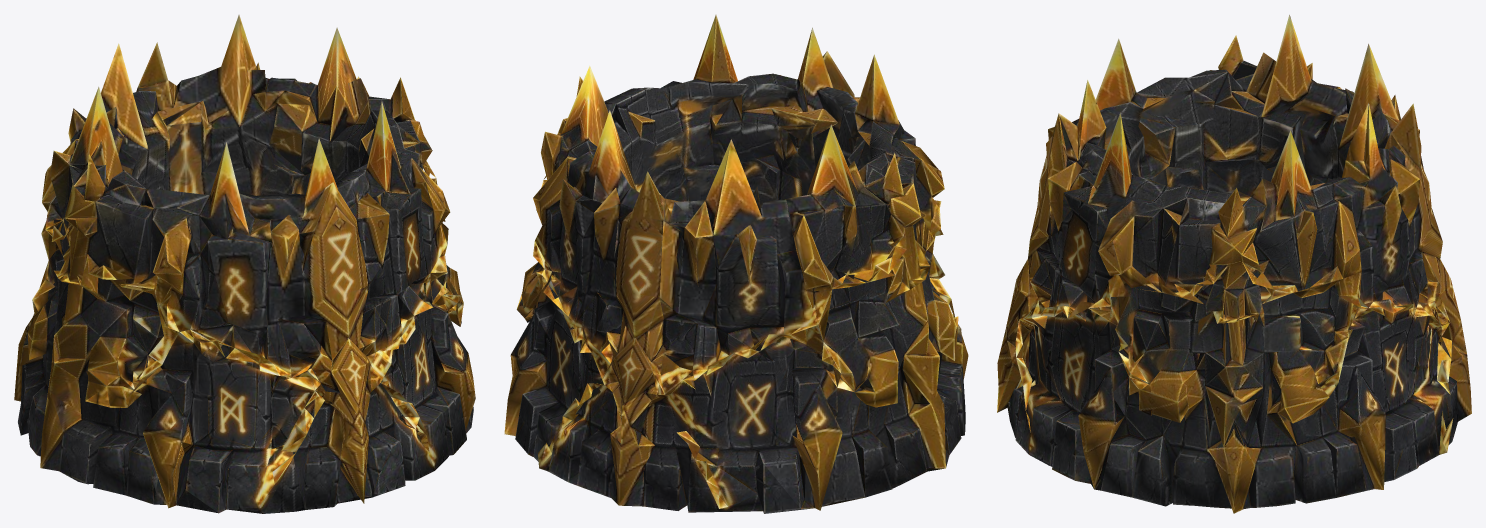
The model's file is pit-4.glb.
The picture shows the model from 3 angles, left to right: view 1: azimuth 30°, elevation 25°; view 2: azimuth 150°, elevation 25°; view 3: azimuth 270°, elevation 25°; orthographic projection.
Size of the model in its own units: 2 by 1.6 by 2.
1 material, 1 textured.
